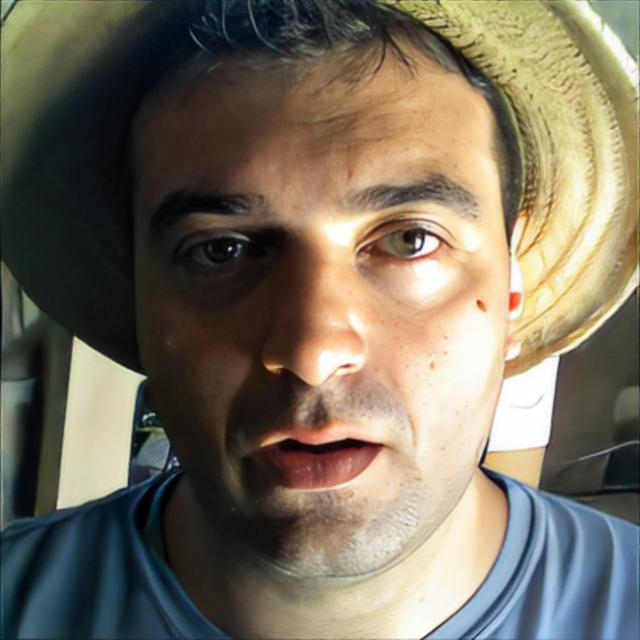neutral: (132, 46, 510, 584)
